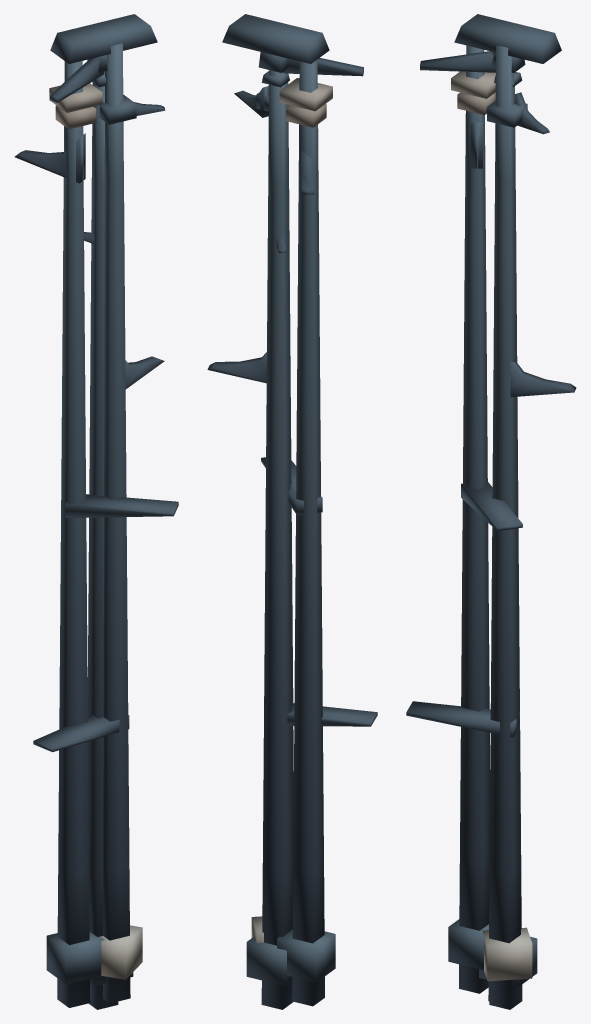
File: Desert_Staffs.fbx
3 renders of one model, left to right at view 1: azimuth 30°, elevation 25°; view 2: azimuth 150°, elevation 25°; view 3: azimuth 330°, elevation 25°, orthographic.
Visible parts, largest first — view 1: staff1, staff2, staff3; view 2: staff3, staff1, staff2; view 3: staff2, staff1, staff3.
Boxes of the visible parts, bbox=[...] form: staff1: bbox=[14, 61, 178, 1007]; staff2: bbox=[33, 43, 164, 1003]; staff3: bbox=[50, 14, 165, 1009]; staff3: bbox=[222, 14, 363, 1009]; staff1: bbox=[261, 59, 335, 1006]; staff2: bbox=[207, 82, 377, 942]; staff2: bbox=[406, 45, 576, 1006]; staff1: bbox=[448, 45, 522, 993]; staff3: bbox=[420, 14, 561, 1009].
Bounding box in the file's own units: 7 × 44.41 × 5.71.
1 material, 1 textured.
